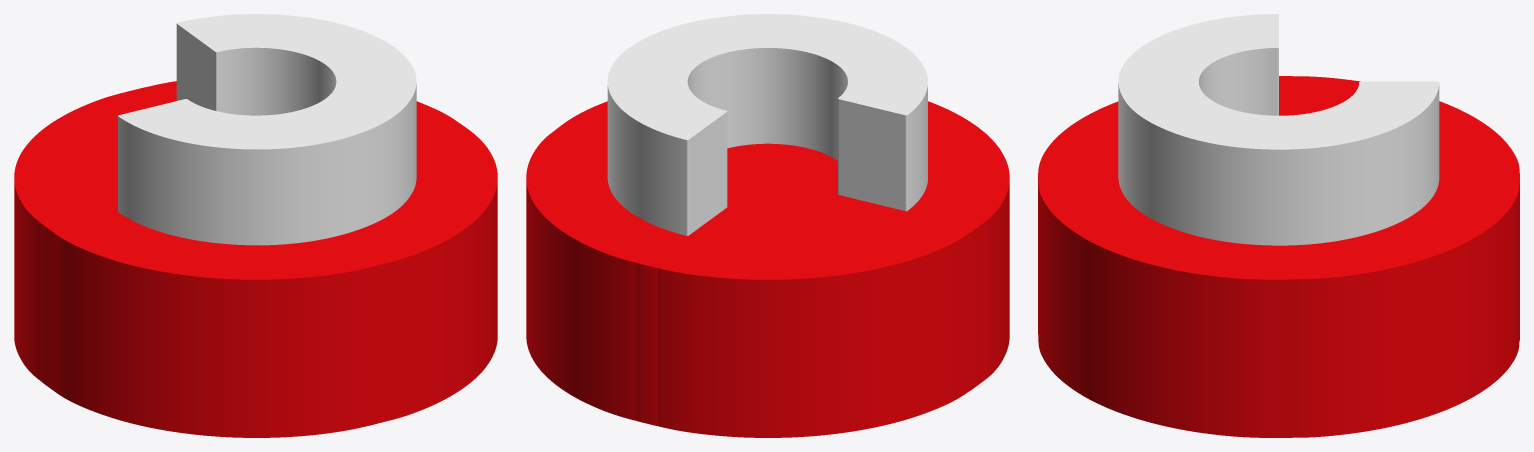
The model's file is IconoCercanias.fbx.
3 views of the same model, side by side, from view 1: azimuth 30°, elevation 25°; view 2: azimuth 150°, elevation 25°; view 3: azimuth 270°, elevation 25° (orthographic).
Parts seen in each view (by area): view 1: Curve, Curve.001; view 2: Curve, Curve.001; view 3: Curve, Curve.001.
Part boxes in pixels (x1,y1,x2,y2): Curve: (14,81,497,437); Curve.001: (118,14,416,245); Curve: (526,101,1009,437); Curve.001: (607,14,927,235); Curve: (1038,76,1519,437); Curve.001: (1118,14,1439,245).
Size of the model in its own units: 3.13 by 1.82 by 3.13.
